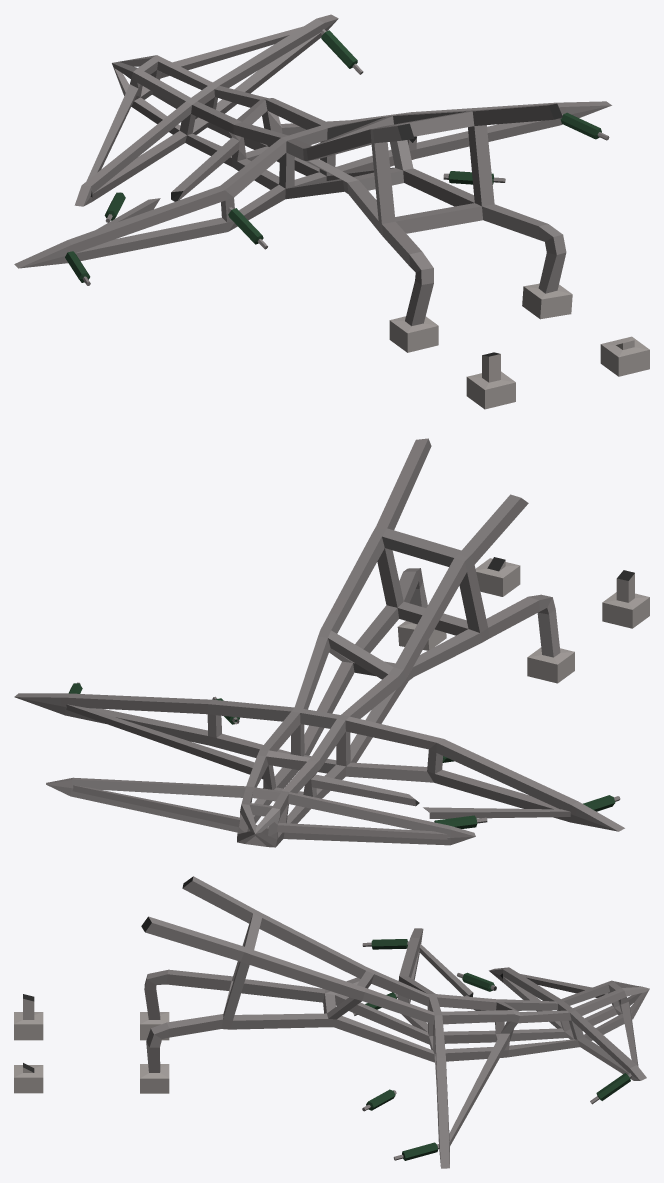
The model's file is apocalypse_power-line-pole-apocalypse-b.fbx.
3 renders of one model, top to bottom at view 1: azimuth 30°, elevation 25°; view 2: azimuth 150°, elevation 25°; view 3: azimuth 270°, elevation 25°, orthographic. The views are drawn at different scales.
Parts seen in each view (by area): view 1: apocalypse_power_line_pole_apocalypse_b; view 2: apocalypse_power_line_pole_apocalypse_b; view 3: apocalypse_power_line_pole_apocalypse_b.
Boxes of the visible parts, x1,y1,x2,y2 form: apocalypse_power_line_pole_apocalypse_b: (14,14,649,409); apocalypse_power_line_pole_apocalypse_b: (14,438,649,847); apocalypse_power_line_pole_apocalypse_b: (14,876,649,1168).
Bounding box in the file's own units: 180 × 59.12 × 200.
